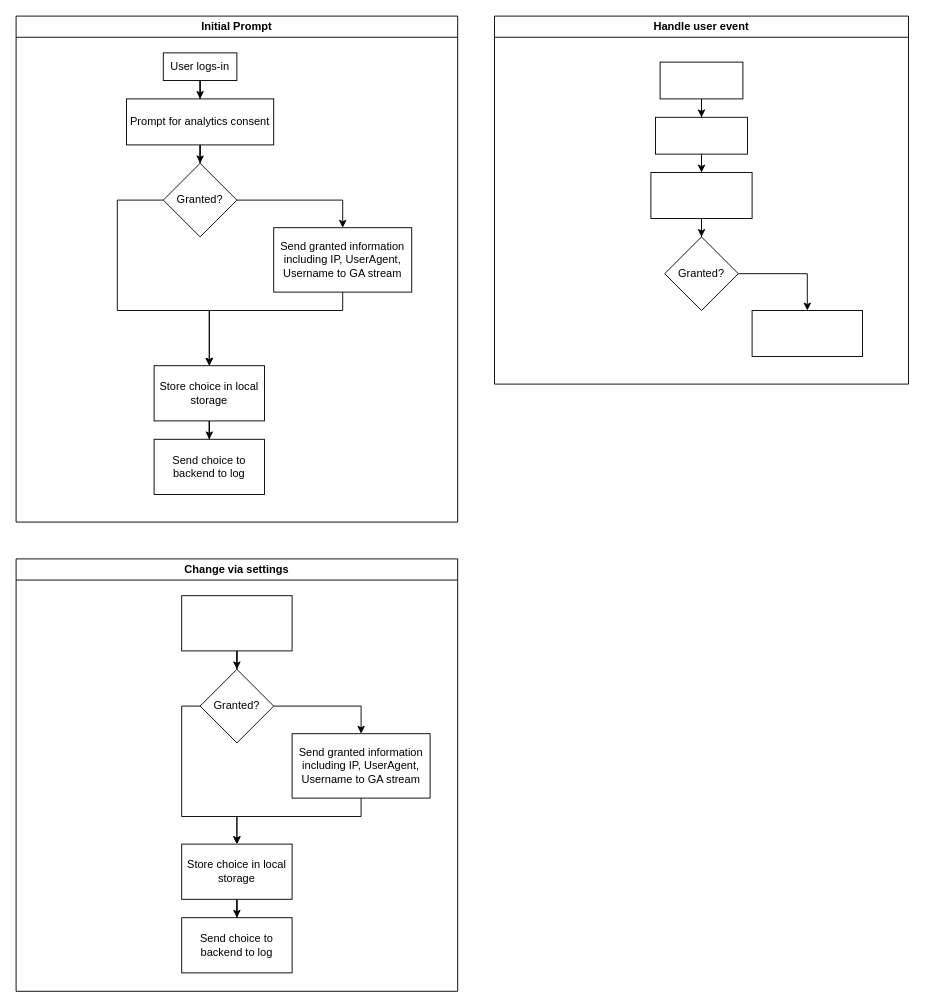
This 925x1007 diagram has some shape labels left out. The centre of each missing label's shape, as x and y in pixels:
Call event handler: the point at 701,135
Get consent choice via local storage: the point at 701,195
Send event info to GA stream: the point at 806,333
User event occurs: the point at 701,80
User updates consent via settings: the point at 236,623
